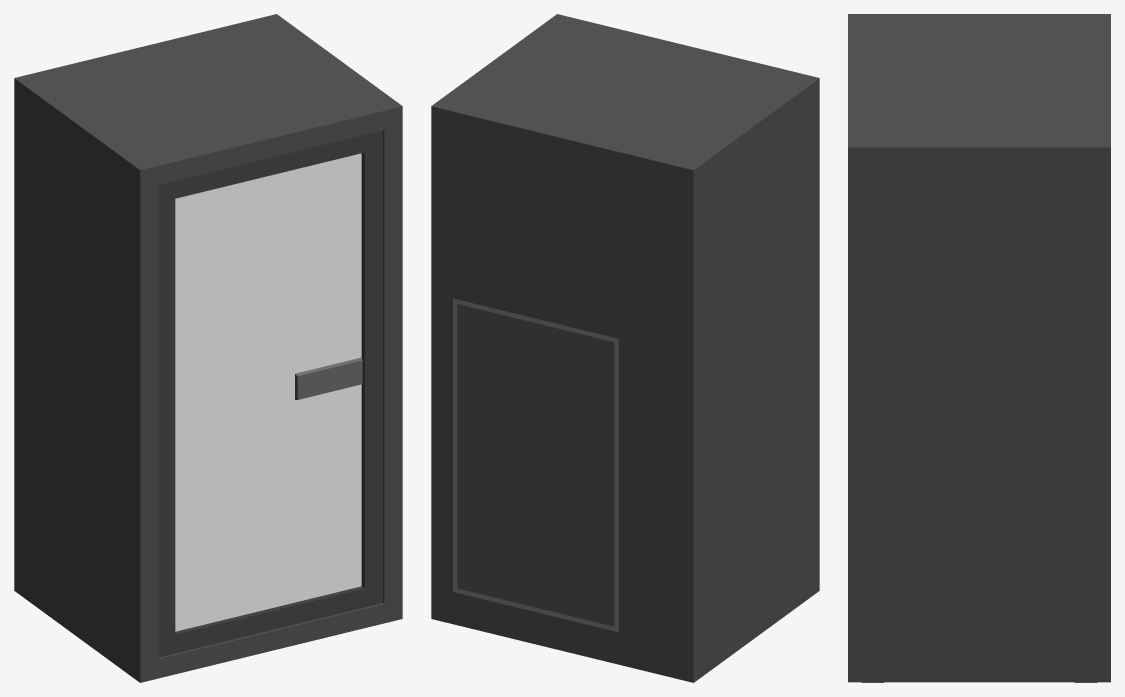
The model's file is Single Door Fridge #1.fbx.
3 views of the same model, side by side, from view 1: azimuth 30°, elevation 25°; view 2: azimuth 150°, elevation 25°; view 3: azimuth 270°, elevation 25° (orthographic). The views are drawn at different scales.
Parts seen in each view (by area): view 1: Single Door Fridge/Cooler #1; view 2: Single Door Fridge/Cooler #1; view 3: Single Door Fridge/Cooler #1.
Boxes of the visible parts, x1,y1,x2,y2 form: Single Door Fridge/Cooler #1: [14, 14, 402, 682]; Single Door Fridge/Cooler #1: [431, 14, 819, 682]; Single Door Fridge/Cooler #1: [848, 14, 1110, 682].
Bounding box in the file's own units: 107 × 202 × 88.92.
Materials: 3 (2 with a texture image).
